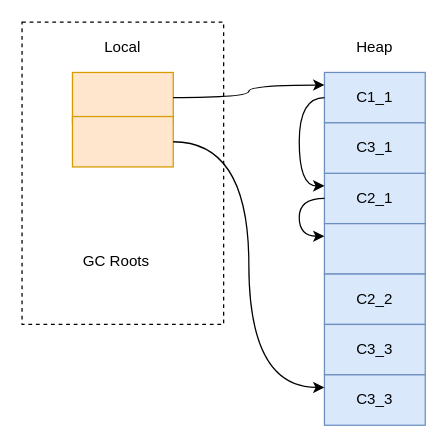
Some shapes in this 447 by 447 pixel diagram are drawn without their labels. The shapes that lost their labels are listed below. From the top down, each one's centre as x and y in pixels, then its label:
At point 122,97: "c1".
At point 122,141: "c3".
At point 374,248: "C3_2".
